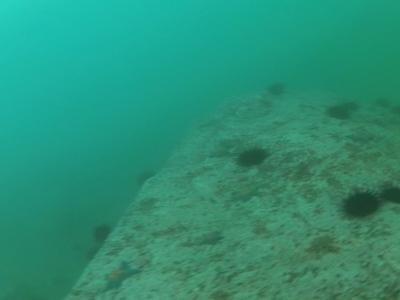urchin: (343, 187, 379, 218), (237, 147, 273, 165), (328, 104, 353, 121), (381, 186, 397, 204)
